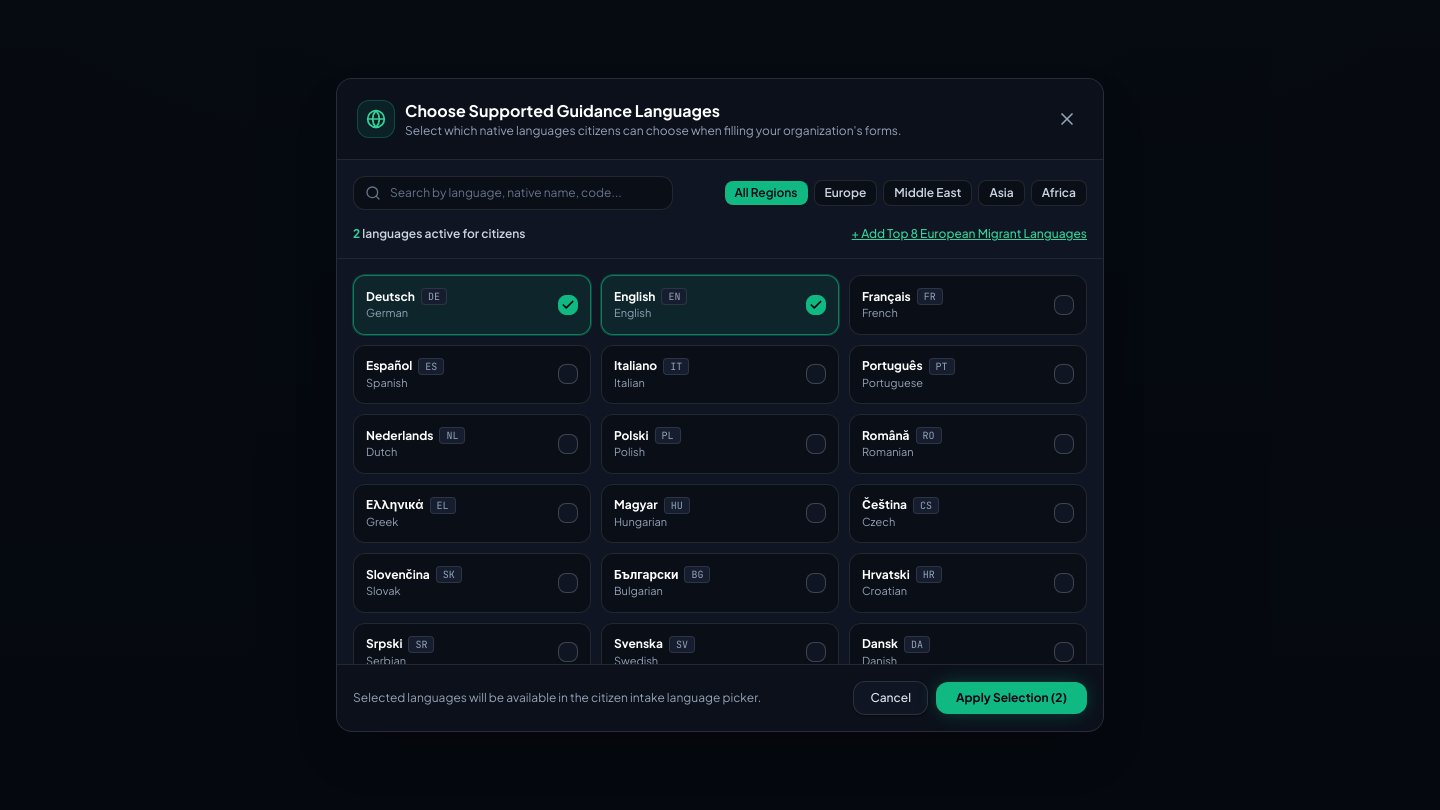
LanguageSelectionModal › renders when open and displays languages with search and regions
The width and height of the screenshot is (1440, 810).
Later steps or results of the test are not shown.
Expected: the heading "Choose Supported Guidance Languages" is shown, 405,100 -> 720,121
Expected: the text "Deutsch" is shown, 366,288 -> 415,304
In the field with placeholder "Search by language, native name, code...": x=513, y=193 353,176 -> 673,210, type "Italian"
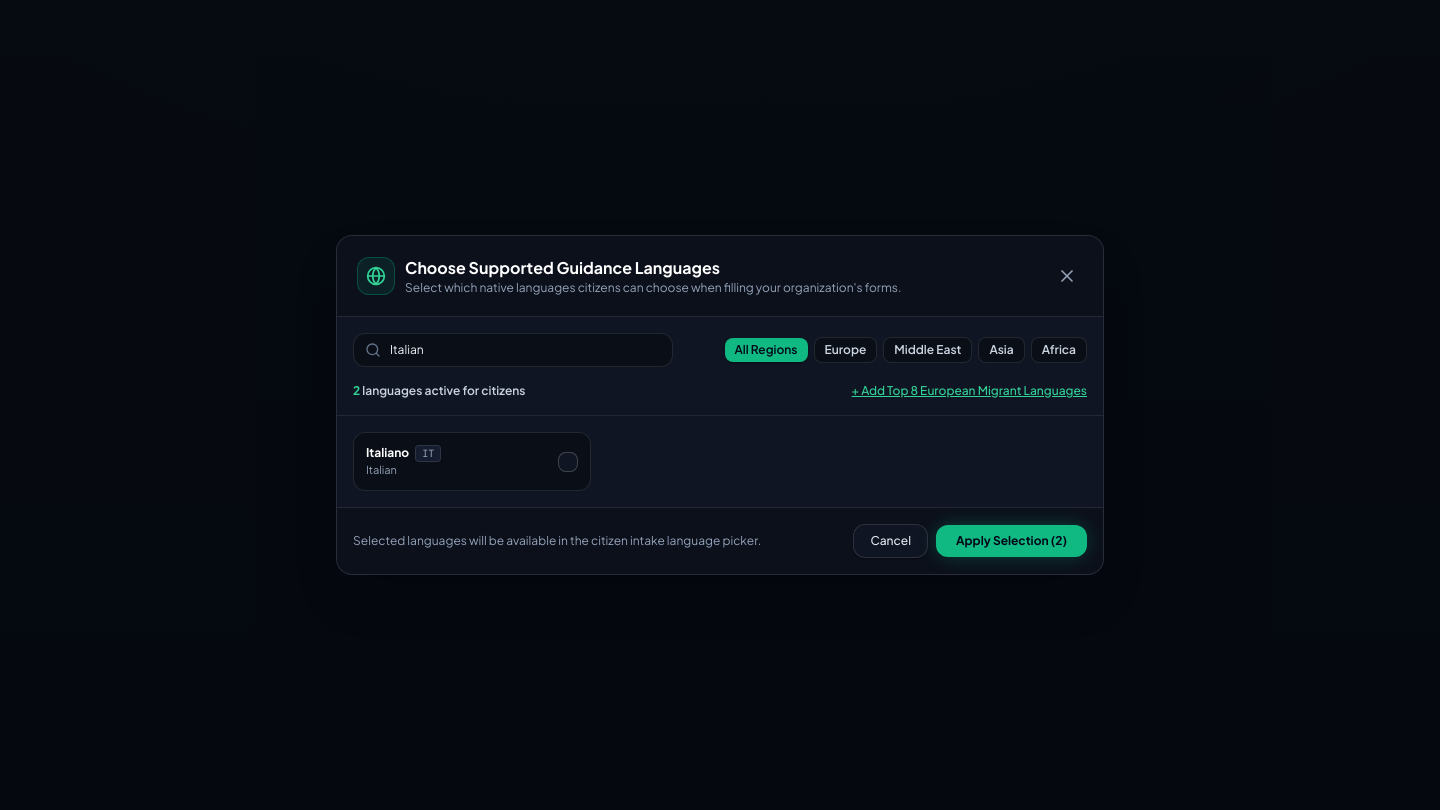
Expected: the text "Italiano" is shown, 366,445 -> 409,461
Expected: the button "Deutsch" is gone
